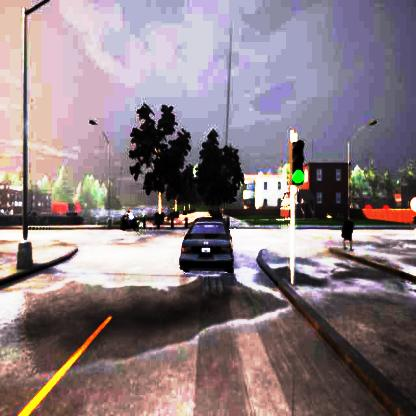vehicle: (180, 219, 234, 272)
